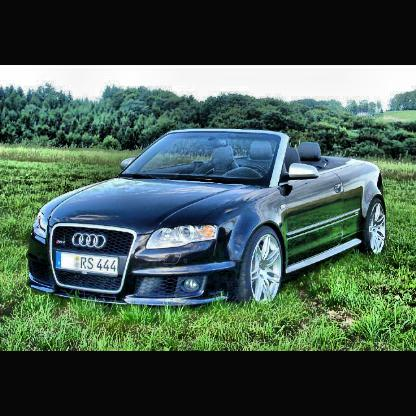Audi RS 4 Convertible 2008: (27, 129, 387, 310)
